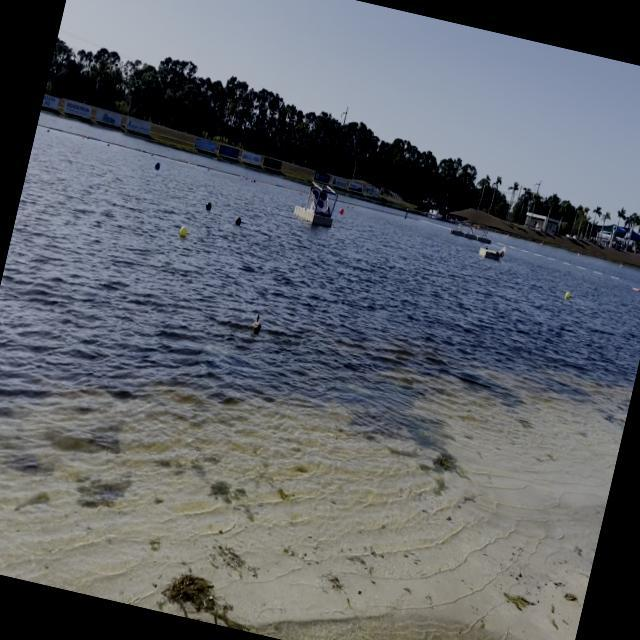buoy: (178, 226, 188, 238), (234, 215, 242, 226), (204, 202, 212, 211), (154, 162, 160, 170), (564, 291, 570, 299), (339, 208, 344, 215)
